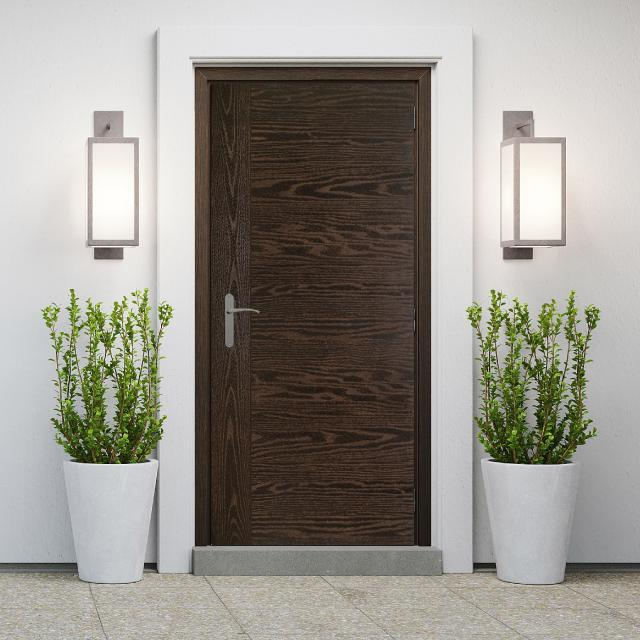door: (198, 64, 430, 548)
